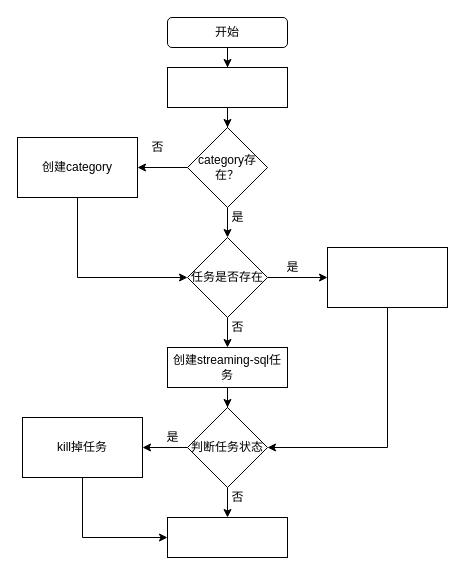
This 465x575 diagram has some shape labels left out. The centre of each missing label's shape, as x and y in pixels:
"提交任务" goes at pixel 227 537.
"更新streaming-sql任务的Params" goes at pixel 387 277.
"生成streaming-sql" goes at pixel 227 87.
